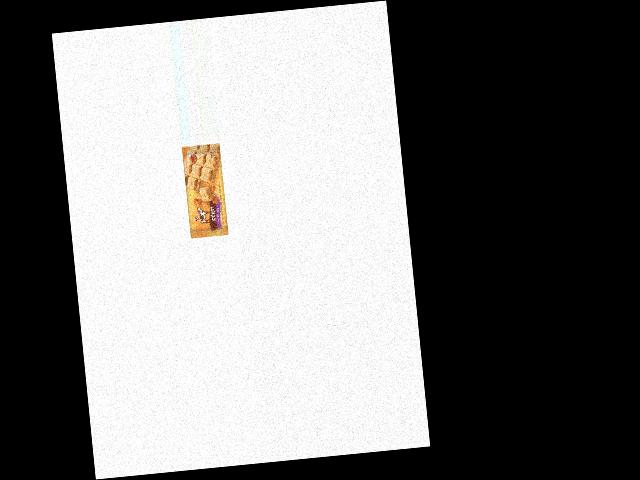chocolate: (182, 142, 231, 241)
